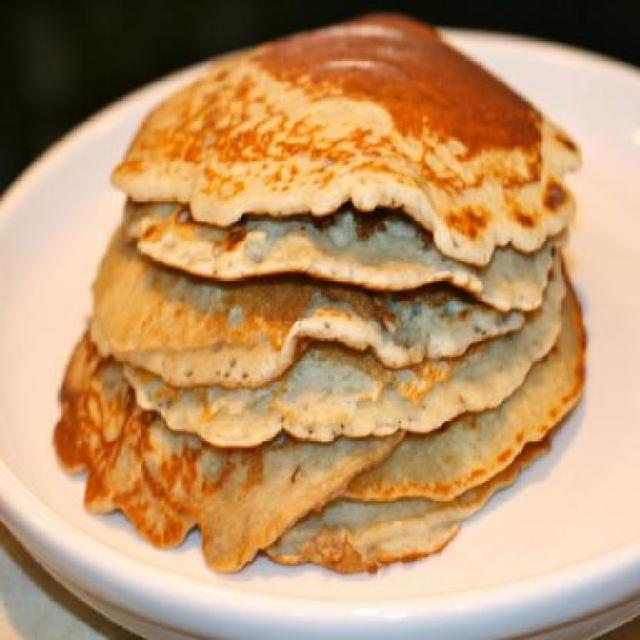Pancake: (54, 202, 586, 578), (108, 9, 582, 268)
